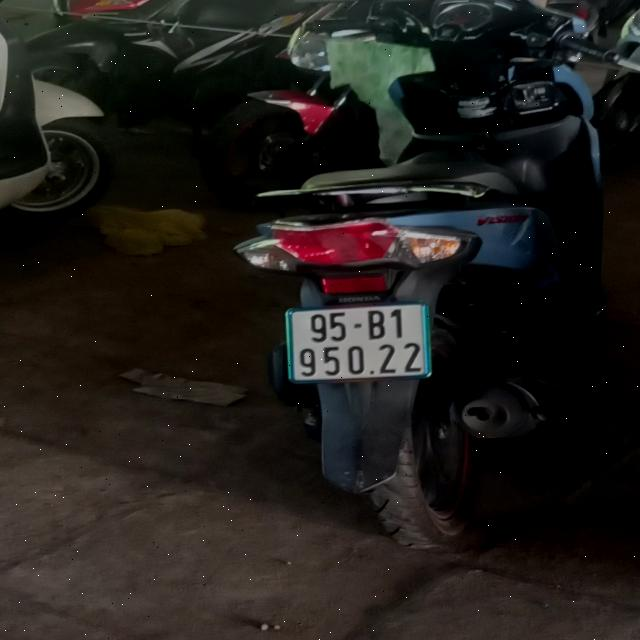0: (348, 346, 365, 375)
1: (390, 308, 404, 339)
2: (378, 344, 398, 375), (402, 342, 420, 372)
5: (321, 346, 341, 377), (329, 312, 347, 342)
9: (310, 313, 328, 344), (298, 348, 316, 378)
B: (368, 310, 387, 340)
